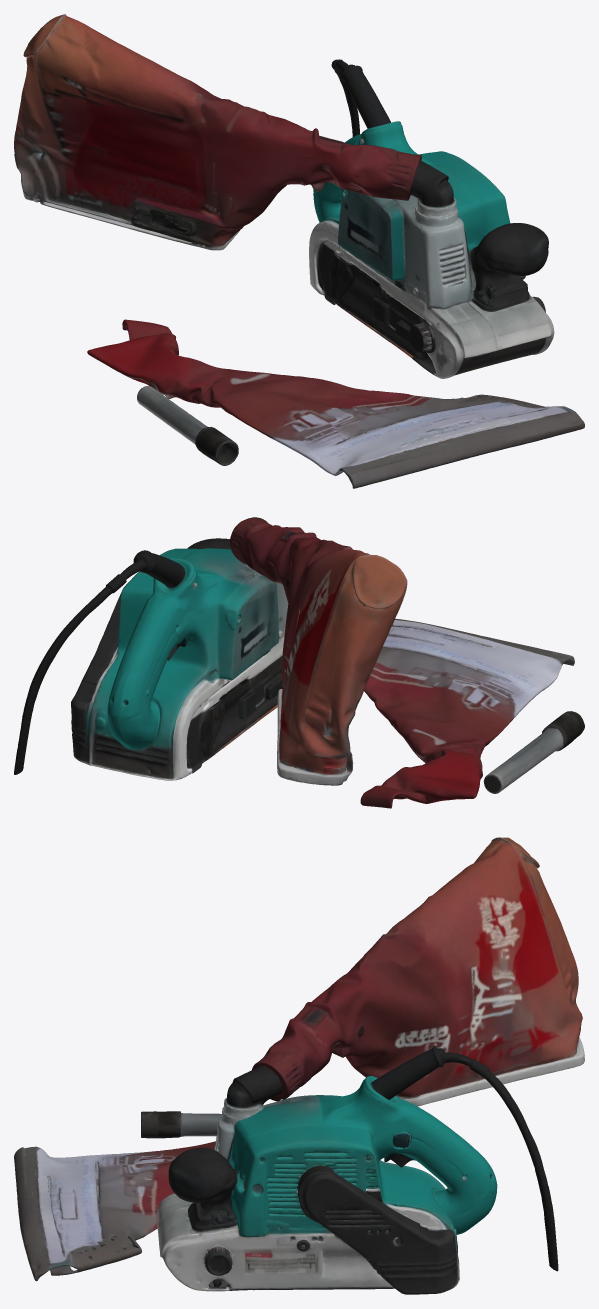
The model's file is sander.glb.
3 views of the same model, one above another, from view 1: azimuth 30°, elevation 25°; view 2: azimuth 150°, elevation 25°; view 3: azimuth 270°, elevation 25° (orthographic). The views are drawn at different scales.
Parts seen in each view (by area): view 1: geometry_0; view 2: geometry_0; view 3: geometry_0.
Part boxes in pixels (<box>): geometry_0: <box>14,14,584,488</box>; geometry_0: <box>14,517,584,808</box>; geometry_0: <box>14,837,584,1294</box>.
Size of the model in its own units: 0.7486 by 0.5928 by 1.
Materials: 1 (1 with a texture image).
